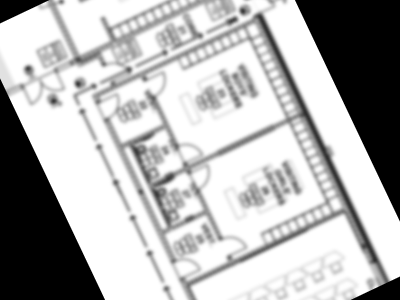door: (172, 251, 204, 282), (96, 91, 127, 121), (144, 69, 173, 98), (176, 135, 205, 164), (189, 163, 217, 191), (221, 230, 249, 258), (250, 0, 278, 17)
double door: (20, 68, 66, 107)
wall: (252, 13, 375, 265), (88, 16, 257, 101), (186, 206, 346, 288), (100, 115, 180, 267), (67, 0, 241, 69), (46, 0, 82, 61), (192, 187, 227, 246), (149, 94, 180, 148), (119, 121, 169, 153), (159, 206, 212, 236), (175, 274, 209, 300), (98, 16, 117, 43), (211, 0, 251, 3)
